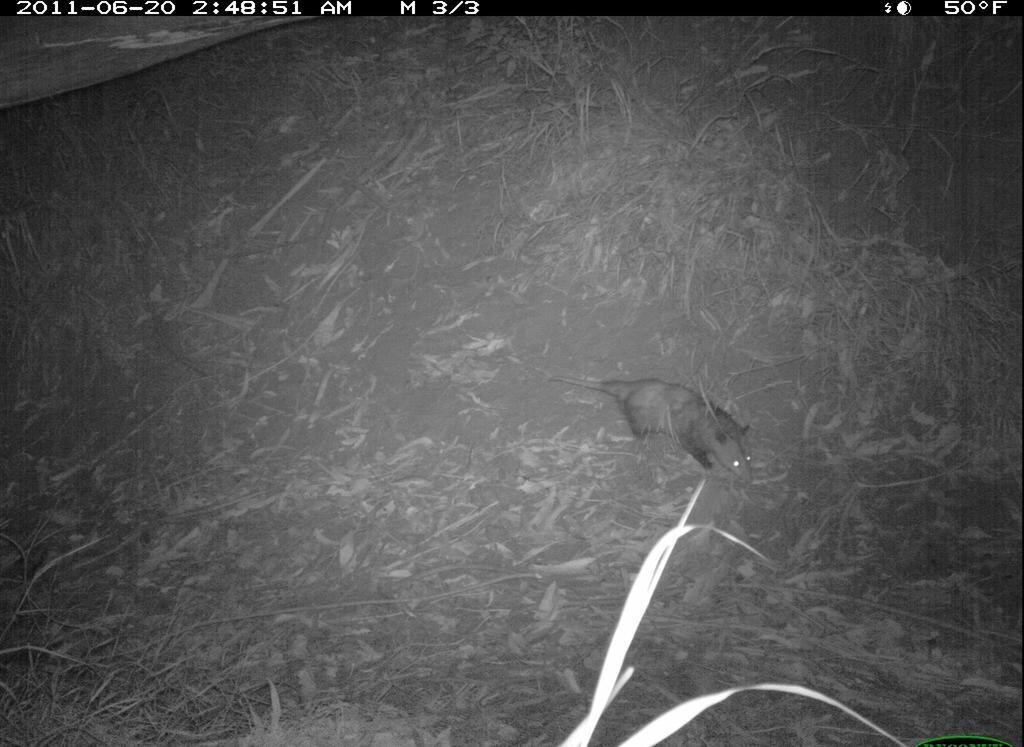opossum: (536, 363, 763, 491)
